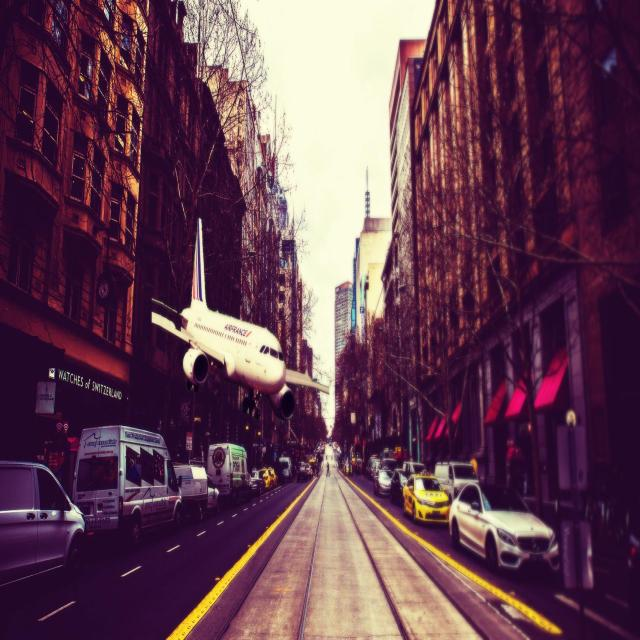airplane: (150, 216, 330, 421)
